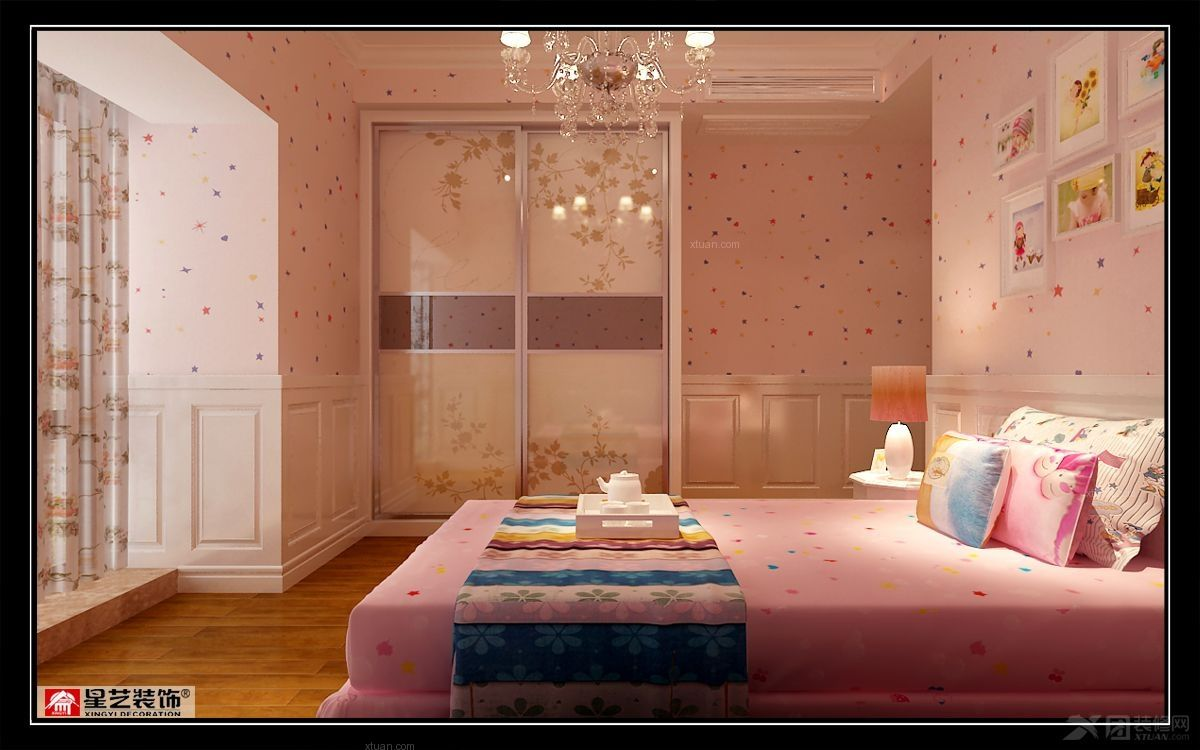床: (340, 494, 1177, 726)
枕头: (942, 409, 1164, 564)
灯: (490, 32, 722, 136), (868, 365, 928, 484)
